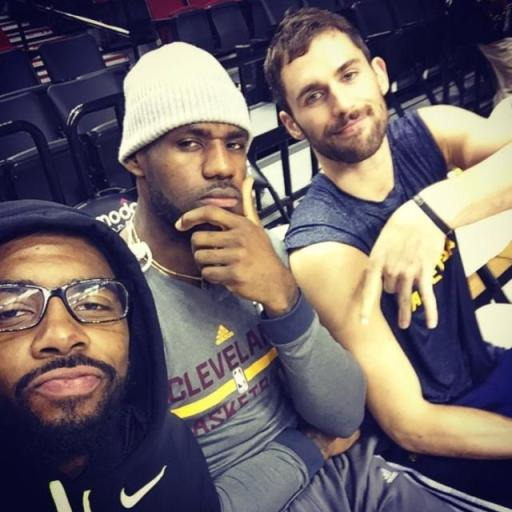Adidas: (212, 322, 236, 348)
